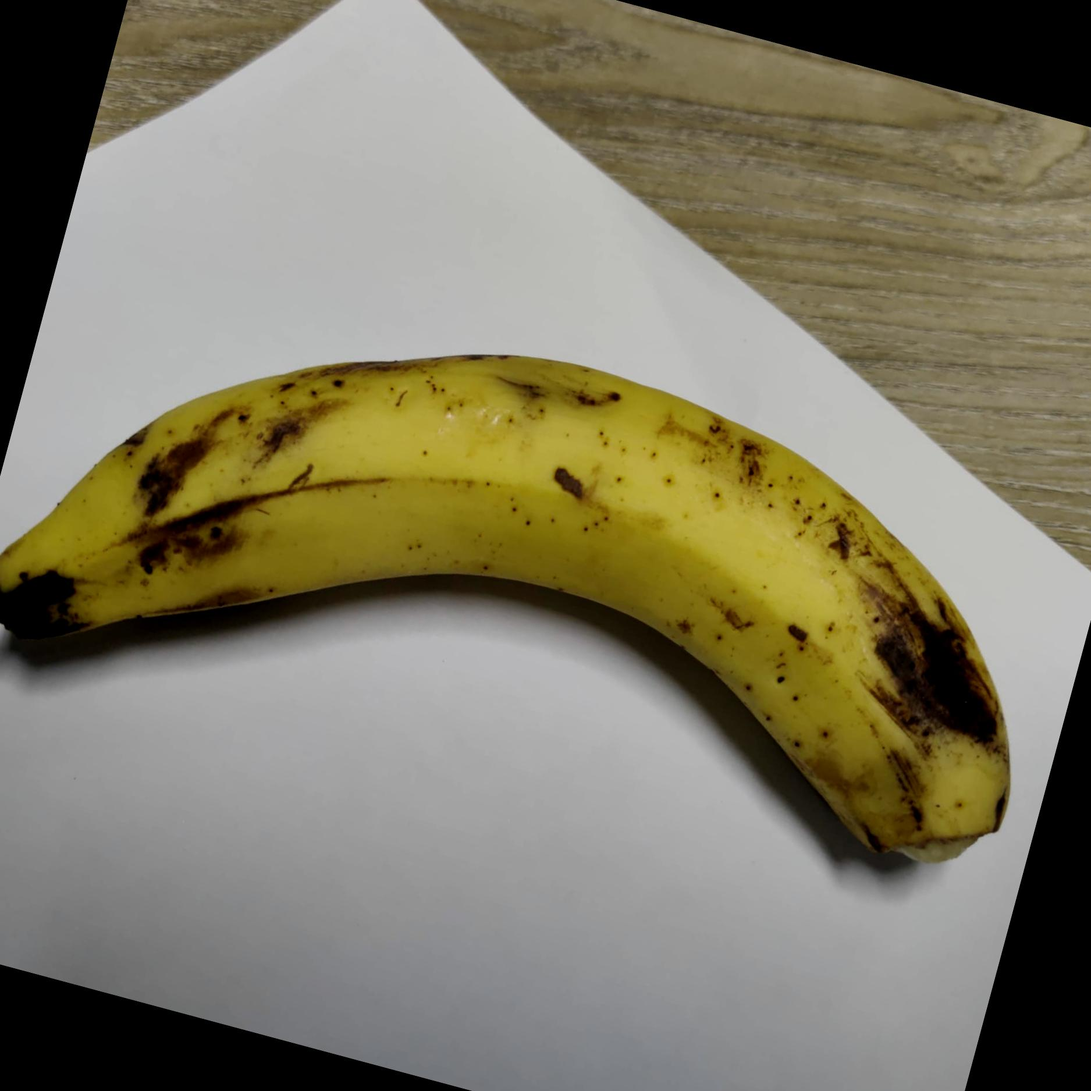Banana Ripe: (0, 206, 1091, 1051)
